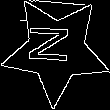N_E: (30, 29, 81, 72)
